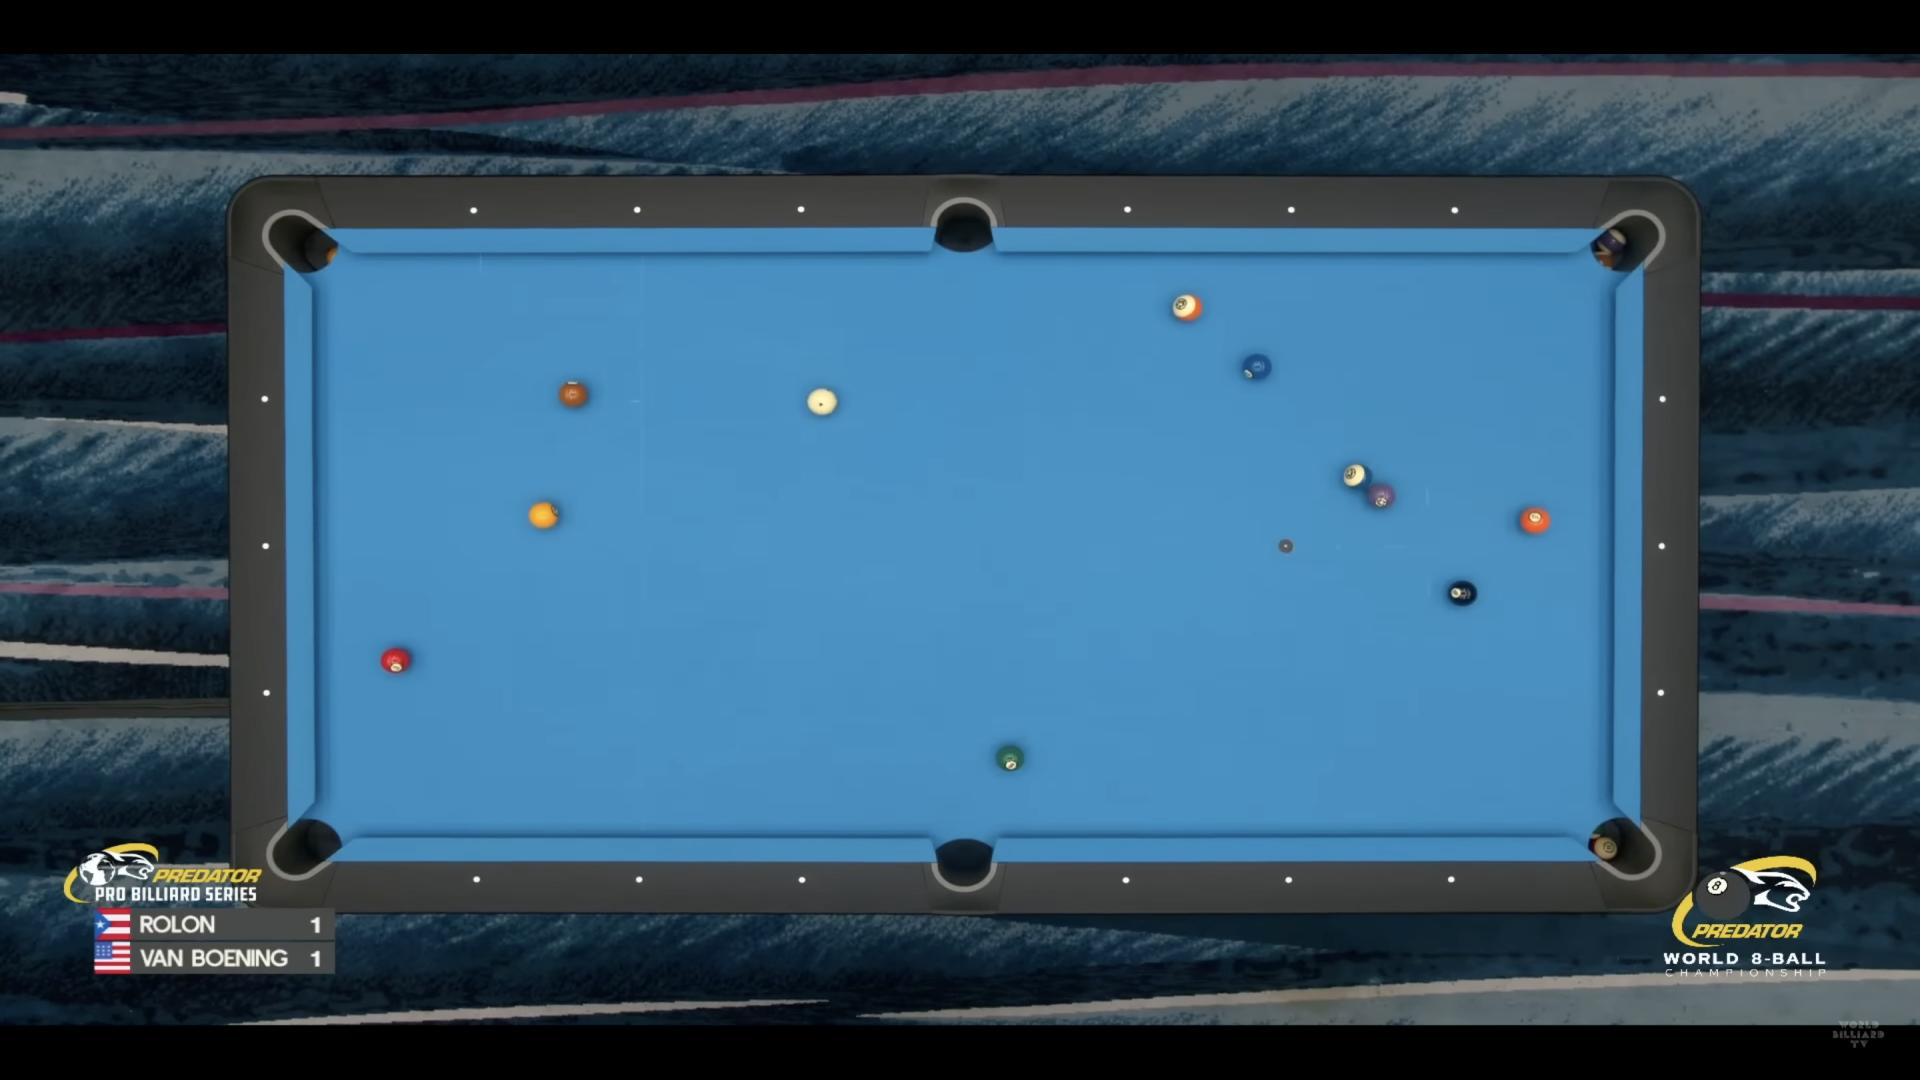Black: (1448, 580, 1477, 605)
Cue: (807, 388, 837, 415)
Dot: (257, 393, 272, 406), (261, 687, 274, 700), (258, 541, 273, 553), (1655, 686, 1668, 698), (1655, 541, 1668, 553), (1658, 392, 1671, 404), (467, 204, 480, 216), (630, 203, 644, 215), (795, 204, 808, 216), (1447, 874, 1457, 885), (1121, 877, 1131, 886), (1284, 876, 1295, 885), (798, 876, 807, 885), (634, 876, 644, 885), (472, 874, 481, 884), (1452, 206, 1461, 214), (1287, 206, 1296, 214), (1122, 206, 1131, 214)
Solid: (527, 502, 559, 530), (1519, 508, 1549, 534), (1241, 353, 1271, 380), (996, 745, 1025, 771), (559, 381, 588, 407), (1365, 484, 1394, 509), (381, 649, 410, 674)
Striped: (1171, 294, 1201, 322), (1342, 463, 1371, 489)
